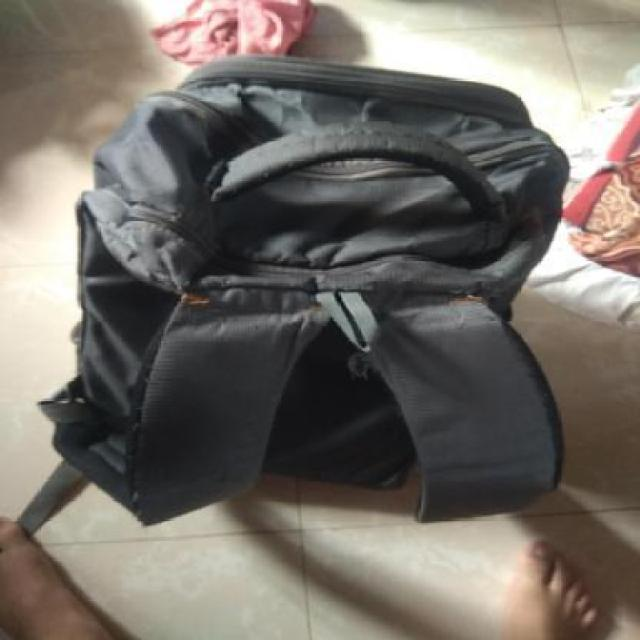backpack: (32, 51, 574, 531)
